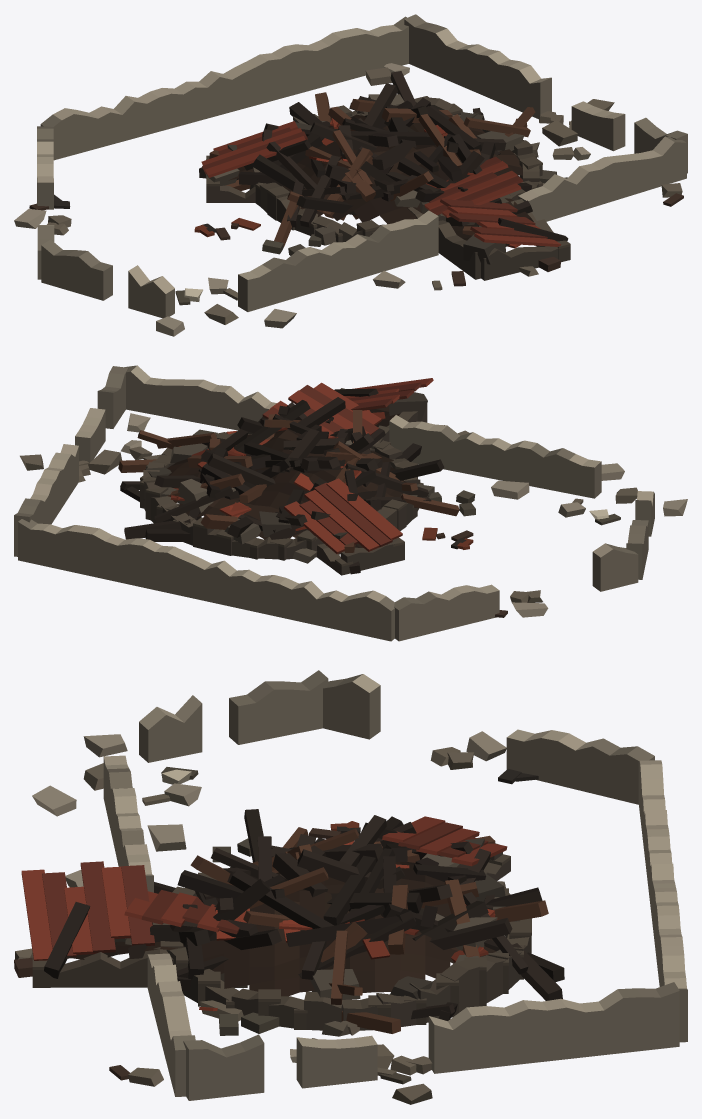
File: VerBuild02b.glb
3 renders of one model, top to bottom at view 1: azimuth 30°, elevation 25°; view 2: azimuth 150°, elevation 25°; view 3: azimuth 270°, elevation 25°, orthographic. The views are drawn at different scales.
Visible parts, largest first — view 1: VerBuild02b_drum; view 2: VerBuild02b_drum; view 3: VerBuild02b_drum.
Part boxes in pixels (x1=…): VerBuild02b_drum: x1=14, y1=14, x2=687, y2=336; VerBuild02b_drum: x1=14, y1=365, x2=687, y2=641; VerBuild02b_drum: x1=14, y1=670, x2=687, y2=1104.
Bounding box in the file's own units: 14.8 × 1.79 × 10.82.
